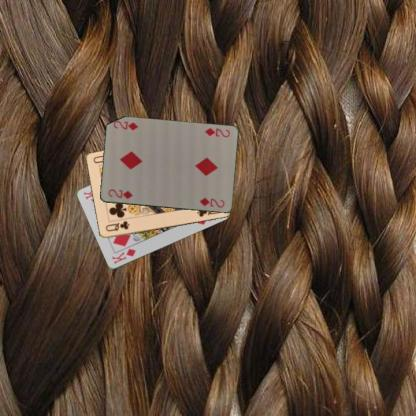2d: (105, 186, 134, 200), (202, 125, 231, 139)
Kd: (109, 246, 137, 265)
Qc: (102, 218, 130, 233)
